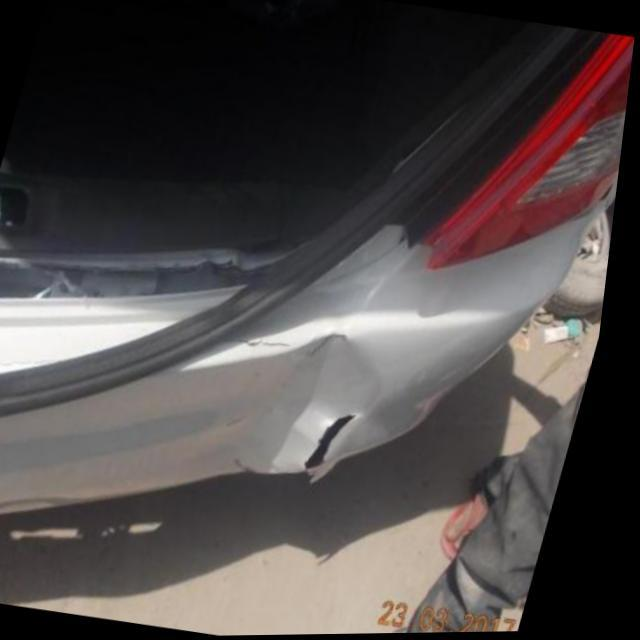crack: (313, 412, 371, 473)
dent: (240, 329, 395, 481)
